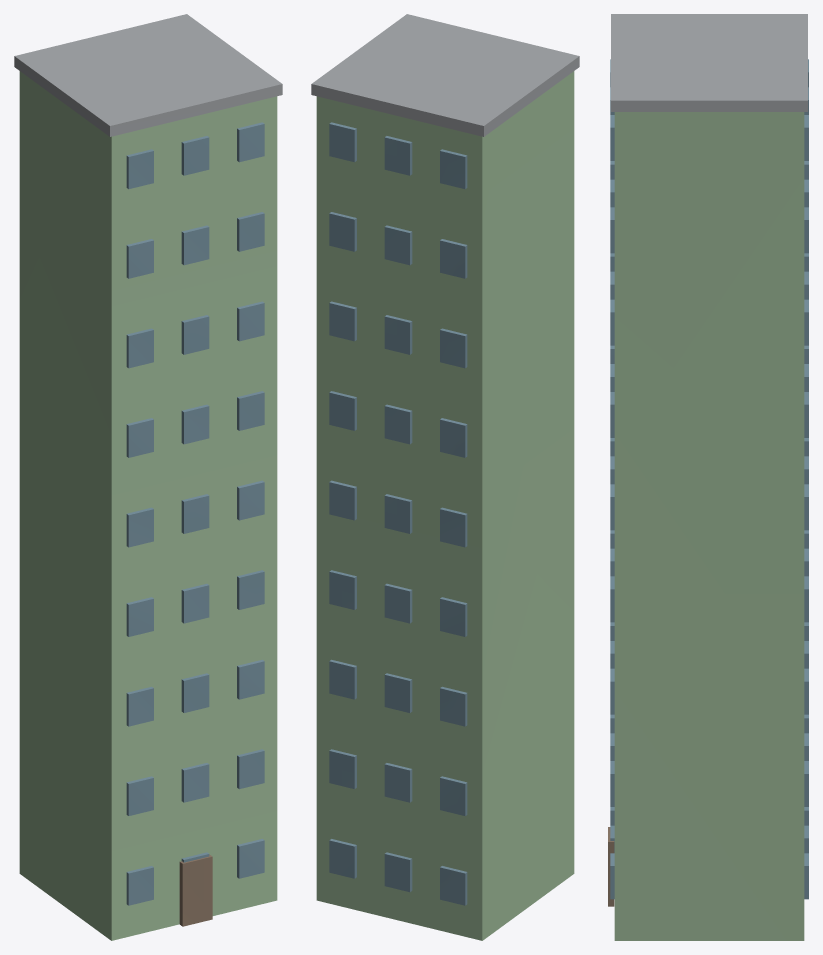
File: tower-05.glb
The picture shows the model from 3 angles, left to right: view 1: azimuth 30°, elevation 25°; view 2: azimuth 150°, elevation 25°; view 3: azimuth 270°, elevation 25°; orthographic projection. The views are drawn at different scales.
Visible parts, largest first — view 1: world; view 2: world; view 3: world.
Boxes of the visible parts, left/top/right/bottom form: world: left=14, top=14, right=282, bottom=940; world: left=311, top=14, right=579, bottom=940; world: left=608, top=14, right=808, bottom=940.
Size of the model in its own units: 1.15 by 5.2 by 1.12.
